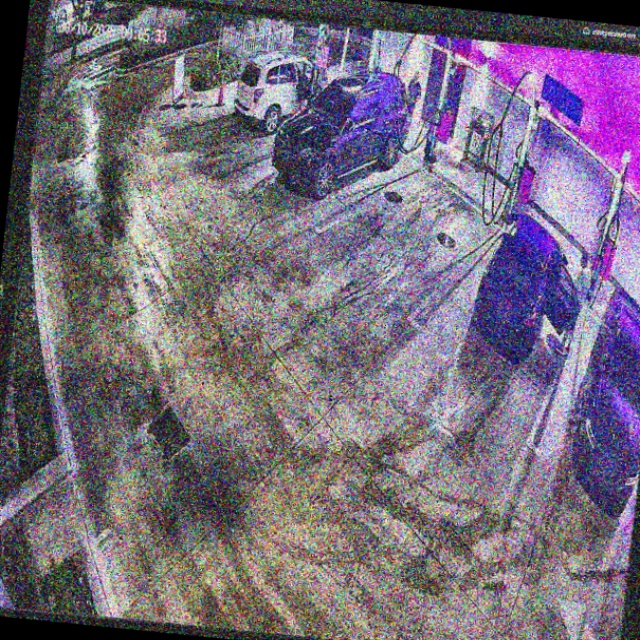Car: (265, 58, 416, 203), (468, 206, 590, 368)
